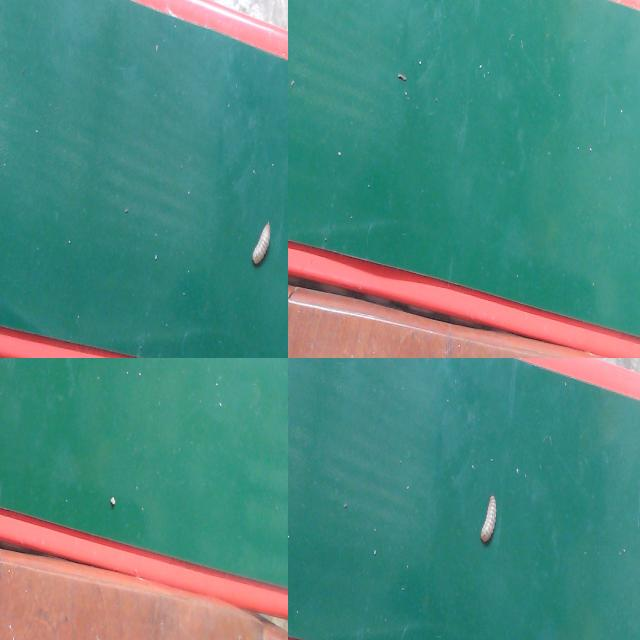Maggot: (479, 496, 500, 547), (250, 223, 273, 268)
